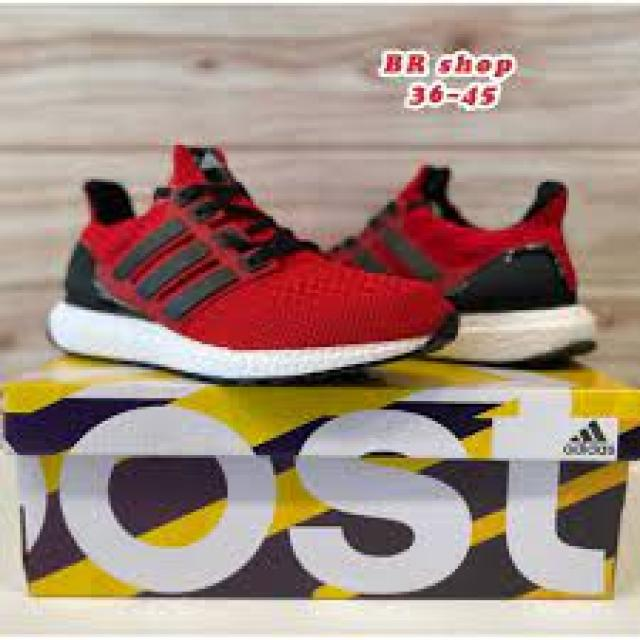shoe: (51, 148, 595, 378), (50, 146, 467, 380)
